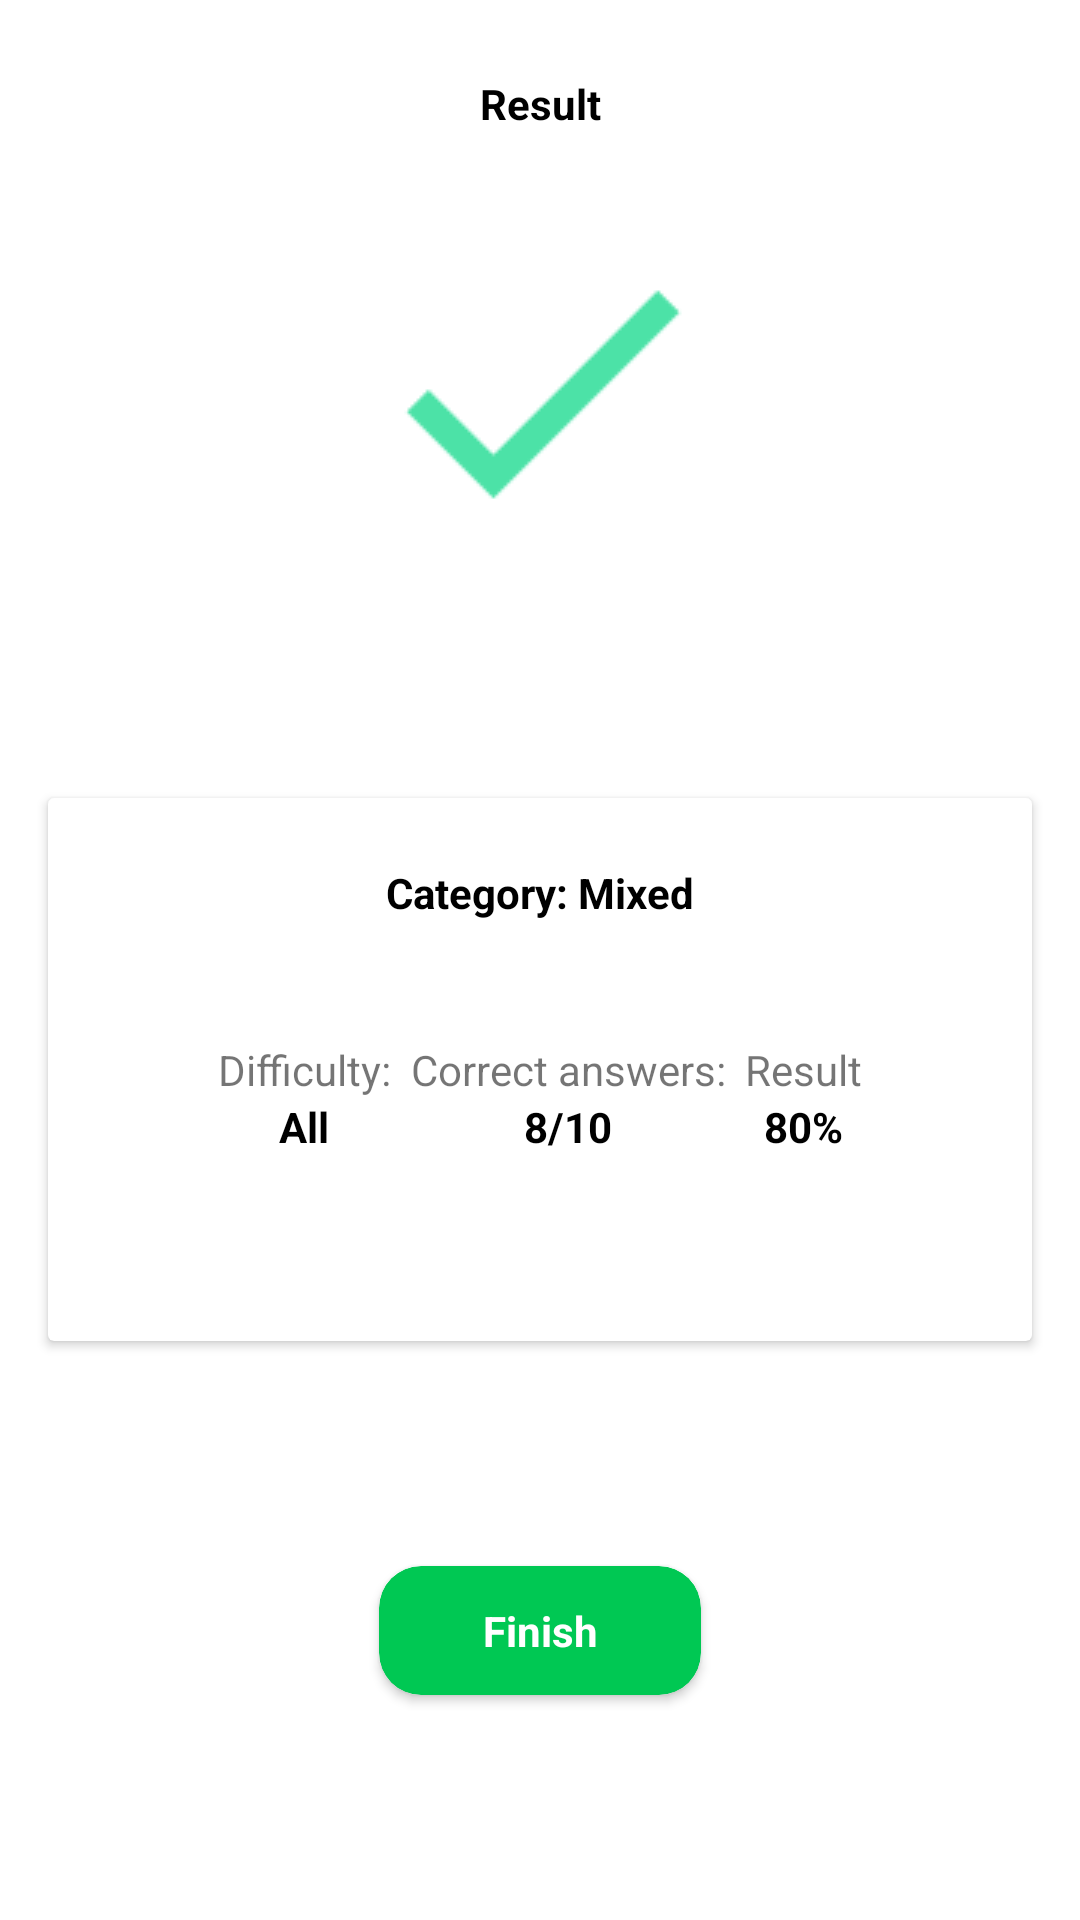

Locate icon controls on the screen. Image size 1080*1920, boxes as (x1, y1, x2, y2).
done: (407, 290, 680, 499)
